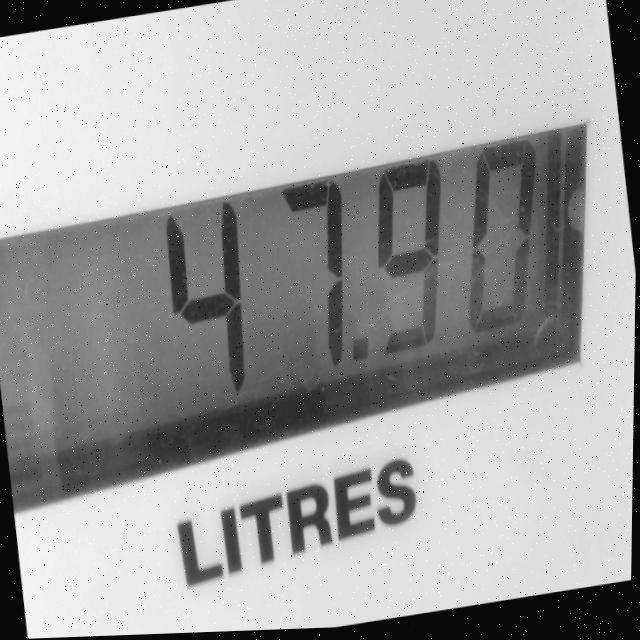.: (345, 322, 384, 386)
0: (445, 148, 559, 353)
4: (143, 185, 276, 442)
7: (264, 178, 376, 408)
9: (358, 155, 479, 404)
